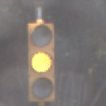Yellow: (24, 14, 60, 105)
